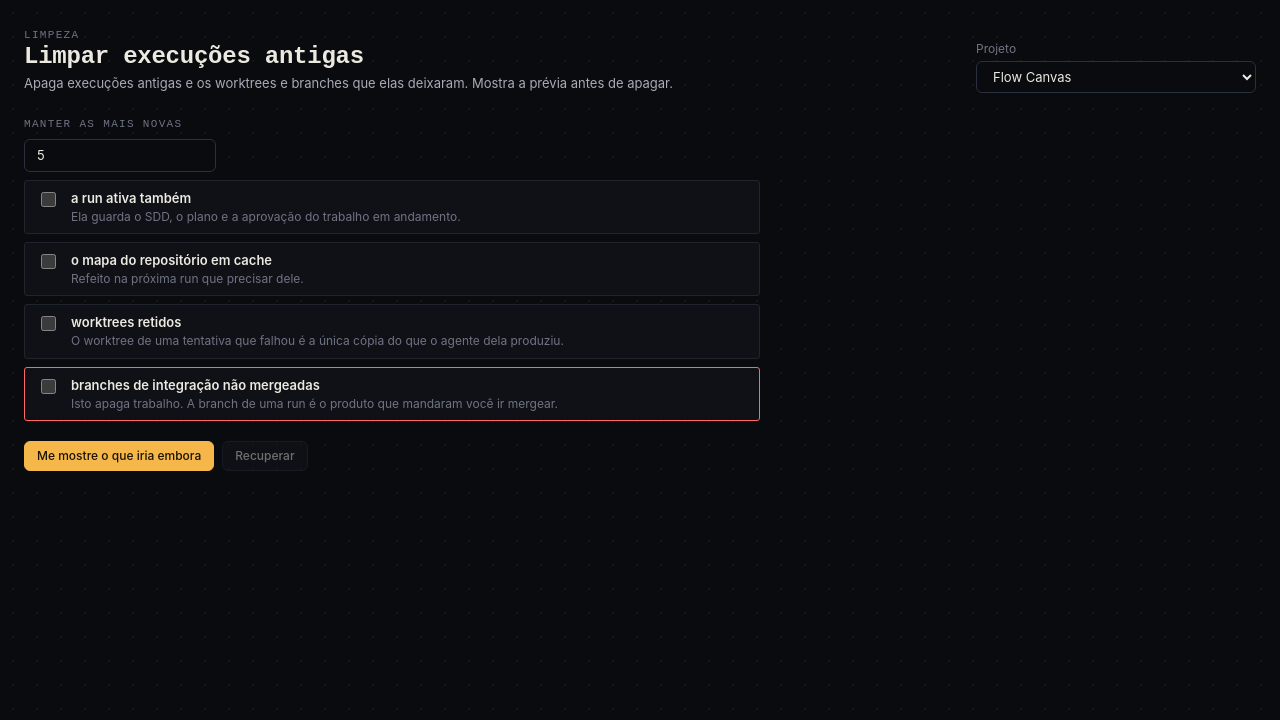
the clean page › surfaces a refusal rather than looking like it worked
The width and height of the screenshot is (1280, 720).
Click the button "Me mostre o que iria embora" at [119, 456], box x1=24 y1=441 x2=214 y2=471
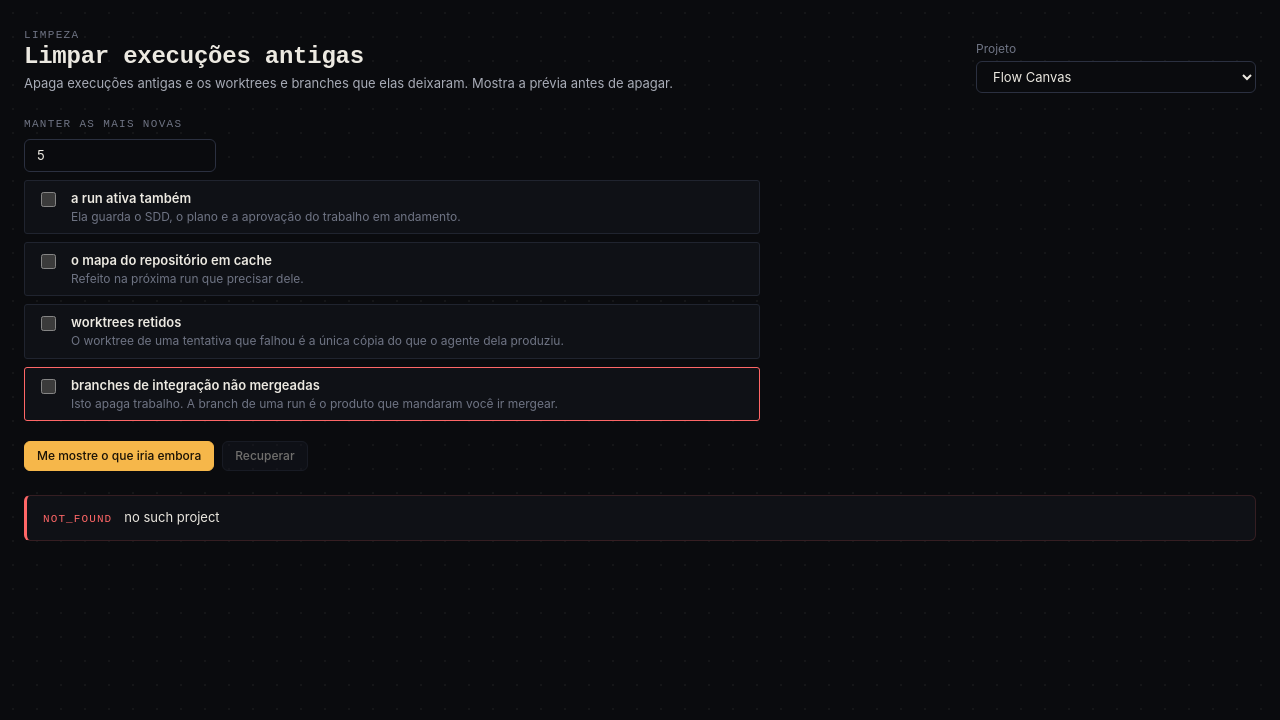
Check: the button "Recuperar" is disabled, box x1=222 y1=441 x2=308 y2=471
Check: the text "no such project" is shown, box x1=124 y1=508 x2=220 y2=527
